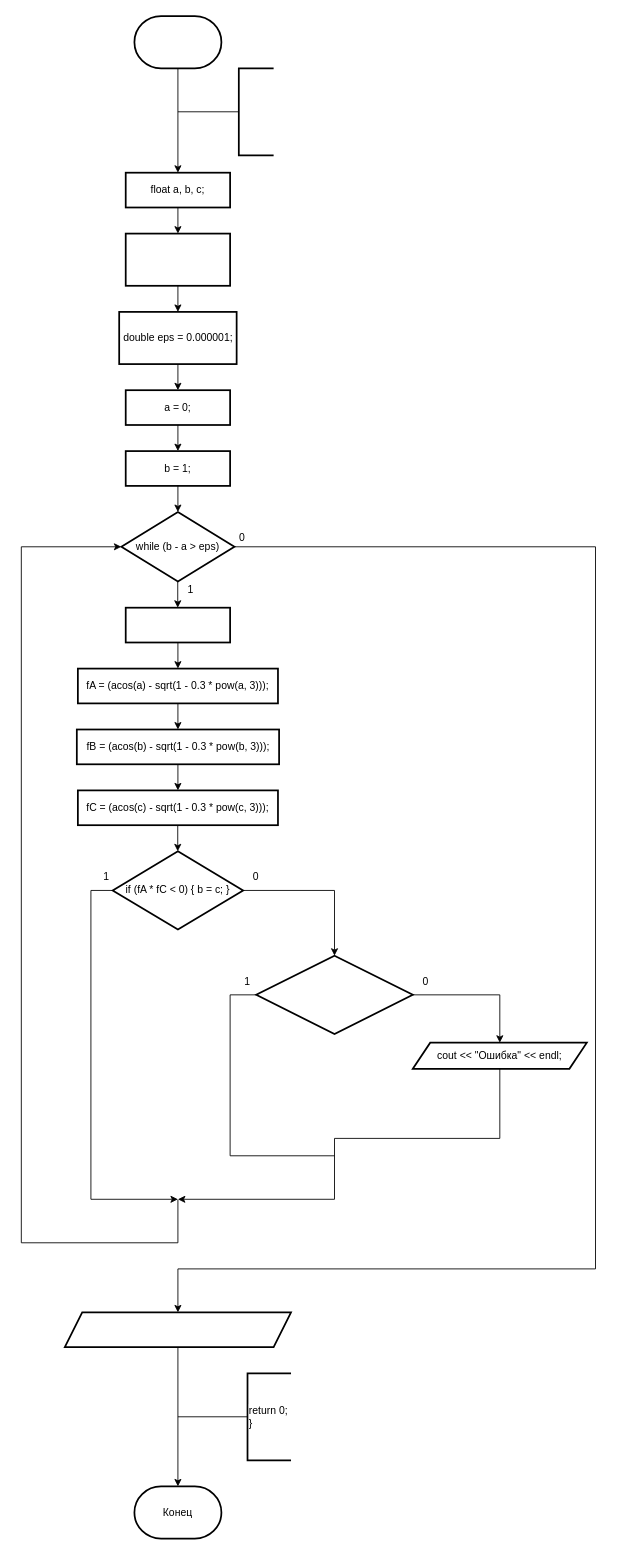
Some shapes in this 618 by 1554 pixel diagram are drawn without their labels. Here are the shapes that lost their labels. From the top down, the box of each, then its label:
(133, 15, 222, 69): Начало
(238, 67, 274, 156): #include <iostream> #include <cmath> using namespace std; int main(){
(124, 232, 231, 286): float fA, fB, fC;
(124, 606, 231, 643): c = (a + b) / 2;
(255, 954, 413, 1034): if (fC * fB < 0) { a = c; }
(64, 1311, 291, 1348): cout << "Корни:" << a << "; :" << b << endl;
